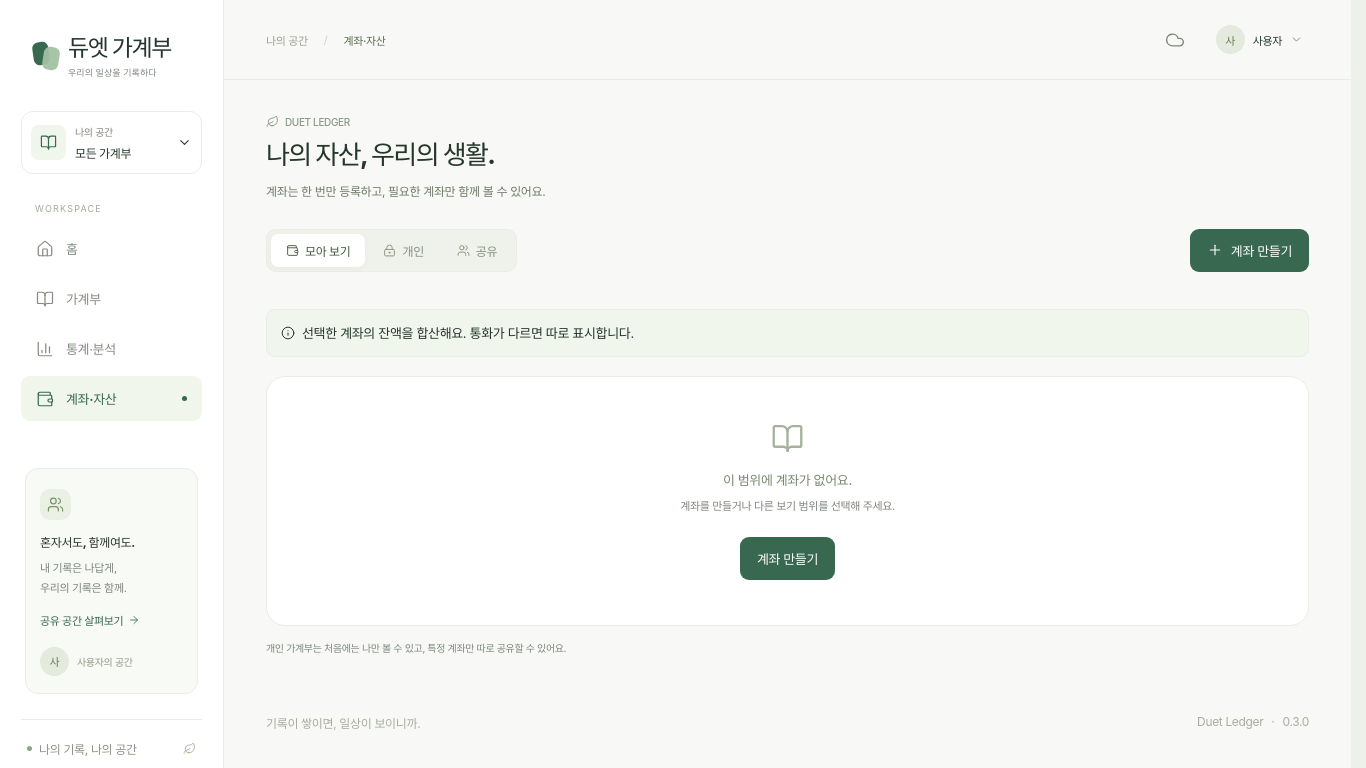
Test: places the desktop action beside scope tabs on accounts
The width and height of the screenshot is (1366, 768).
Click the 1st button "계좌 만들기" at (1249, 250), box [1190,229,1309,272]
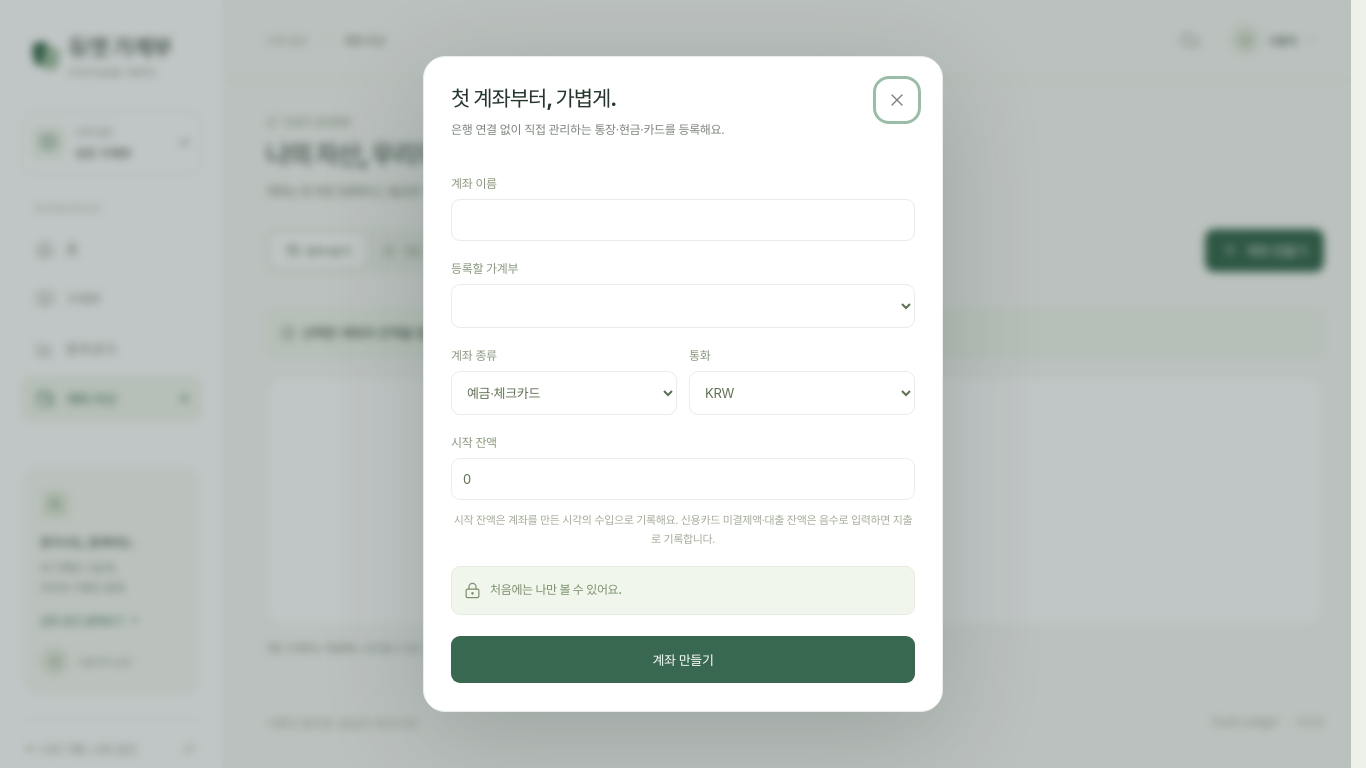
Expected: the dialog is shown, [423,56,943,712]
